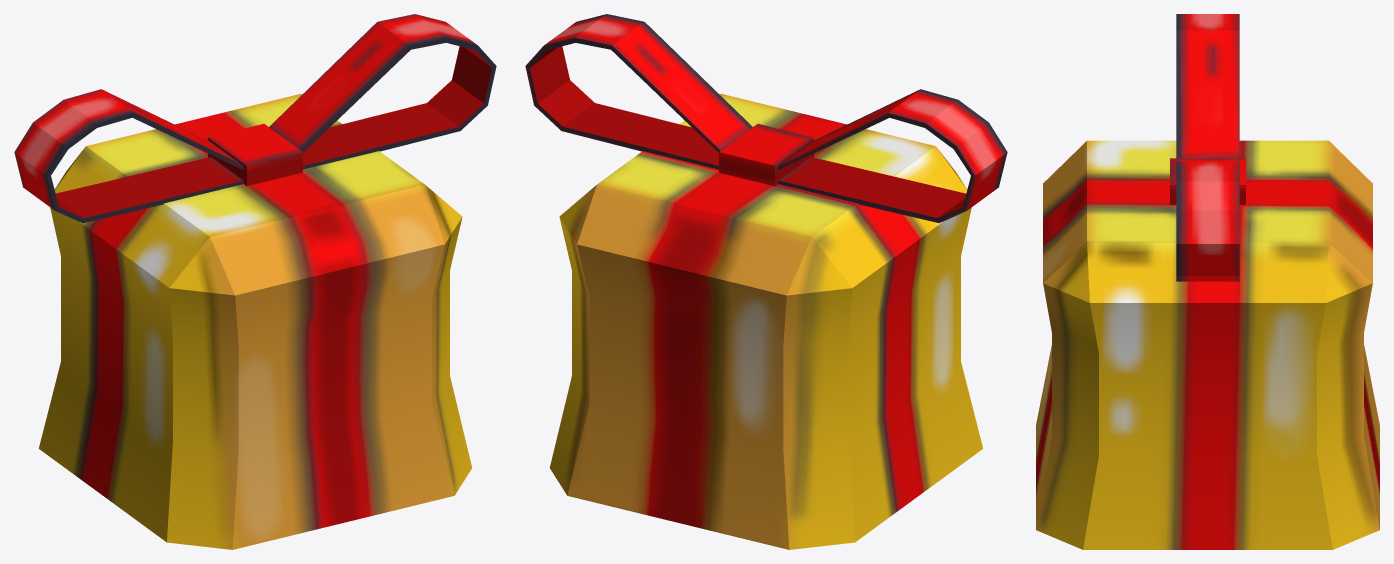
The model's file is Gift.fbx.
The picture shows the model from 3 angles, left to right: view 1: azimuth 30°, elevation 25°; view 2: azimuth 150°, elevation 25°; view 3: azimuth 270°, elevation 25°; orthographic projection. The views are drawn at different scales.
Parts seen in each view (by area): view 1: Gift; view 2: Gift; view 3: Gift.
Boxes of the visible parts, left/top/right/bottom form: Gift: left=14, top=14, right=496, bottom=549; Gift: left=525, top=14, right=1007, bottom=549; Gift: left=1036, top=14, right=1379, bottom=549.
Size of the model in its own units: 0.5817 by 0.4832 by 0.3948.
